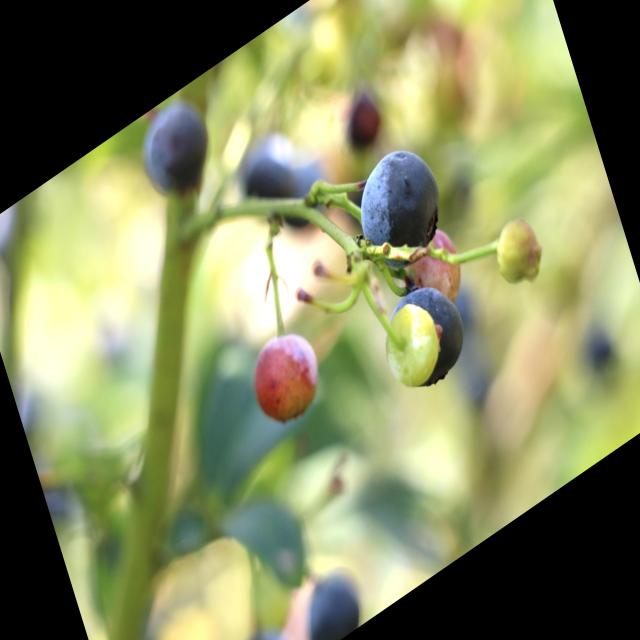blueberry: (340, 125, 455, 292), (374, 263, 478, 414), (128, 83, 226, 225), (226, 126, 308, 235), (286, 548, 372, 640), (272, 146, 338, 242), (218, 610, 302, 640)
blueberry-halfripe: (239, 311, 330, 442), (410, 220, 469, 310)
blueberry-unripe: (374, 286, 450, 400), (487, 203, 552, 307)
